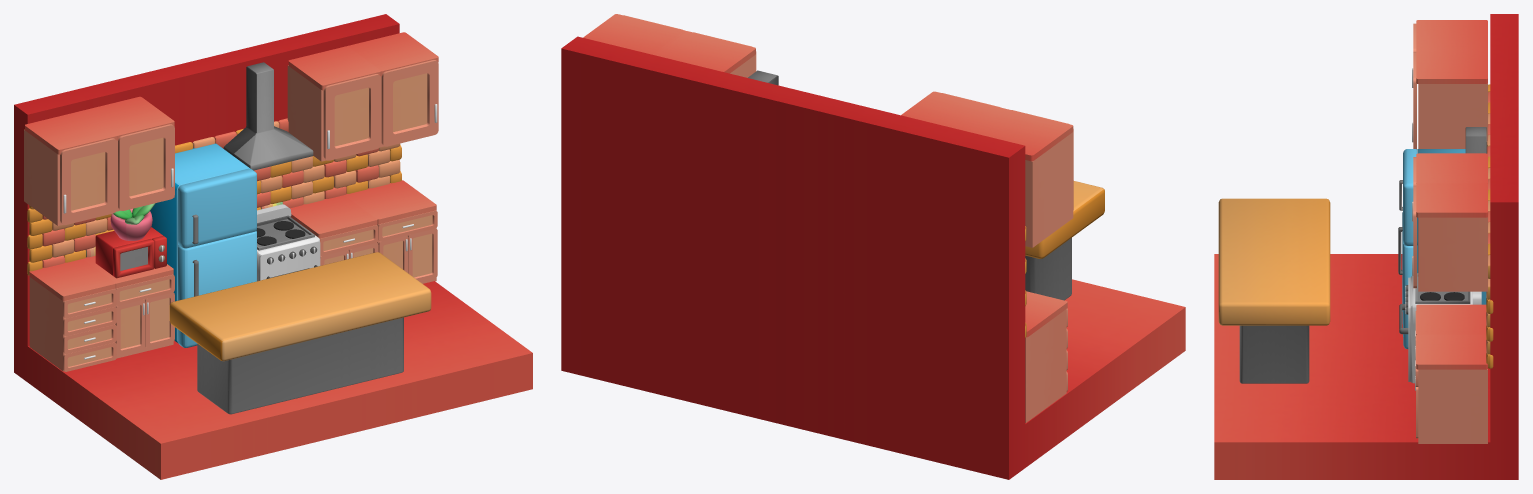
The model's file is Kitchen.fbx.
The picture shows the model from 3 angles, left to right: view 1: azimuth 30°, elevation 25°; view 2: azimuth 150°, elevation 25°; view 3: azimuth 270°, elevation 25°; orthographic projection. The views are drawn at different scales.
Visible parts, largest first — view 1: wall.001, cupboard.010, Cube, wall, Cube.017, aspirator, Cube.016, Cube.001, Cube.004, MD, Circle, Circle.001; view 2: wall.001, cupboard.010, Cube; view 3: wall.001, cupboard.010, Cube, Cube.004, Cube.017, wall, Cube.016, aspirator, Cube.001, Circle.001.
Part boxes in pixels (x1=…): wall.001: x1=14, y1=14, x2=532, y2=479; cupboard.010: x1=24, y1=32, x2=438, y2=371; Cube: x1=169, y1=252, x2=431, y2=414; wall: x1=27, y1=118, x2=401, y2=275; Cube.017: x1=178, y1=168, x2=256, y2=248; aspirator: x1=223, y1=62, x2=313, y2=170; Cube.016: x1=178, y1=231, x2=256, y2=347; Cube.001: x1=150, y1=143, x2=249, y2=343; Cube.004: x1=257, y1=204, x2=320, y2=281; MD: x1=95, y1=227, x2=166, y2=278; Circle: x1=110, y1=208, x2=152, y2=240; Circle.001: x1=256, y1=221, x2=305, y2=245; wall.001: x1=561, y1=36, x2=1185, y2=479; cupboard.010: x1=583, y1=14, x2=1073, y2=422; Cube: x1=1025, y1=181, x2=1104, y2=300; wall.001: x1=1214, y1=14, x2=1518, y2=479; cupboard.010: x1=1412, y1=20, x2=1487, y2=443; Cube: x1=1218, y1=198, x2=1330, y2=383; Cube.004: x1=1408, y1=273, x2=1481, y2=383; Cube.017: x1=1399, y1=149, x2=1417, y2=245; wall: x1=1486, y1=84, x2=1493, y2=368; Cube.016: x1=1398, y1=212, x2=1417, y2=349; aspirator: x1=1465, y1=127, x2=1486, y2=153; Cube.001: x1=1417, y1=149, x2=1486, y2=304; Circle.001: x1=1420, y1=292, x2=1464, y2=300.
Bounding box in the file's own units: 550 × 369 × 367.
